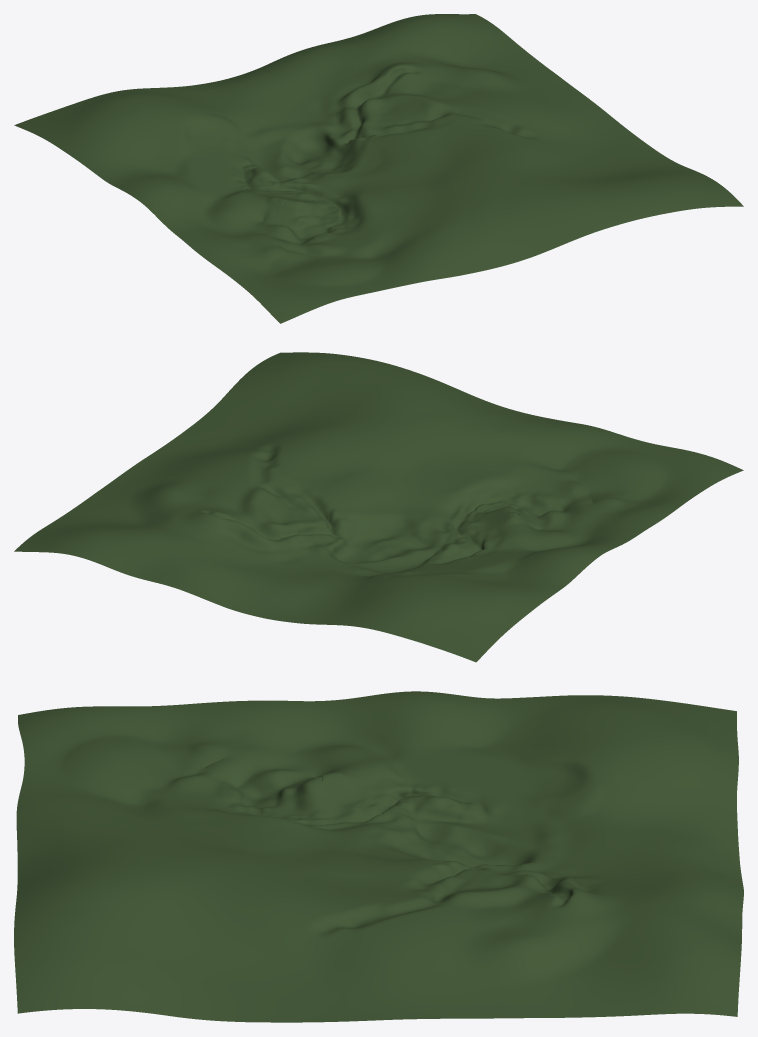
Rendered from terrain_04.glb.
3 views of the same model, one above another, from view 1: azimuth 30°, elevation 25°; view 2: azimuth 150°, elevation 25°; view 3: azimuth 270°, elevation 25° (orthographic). The views are drawn at different scales.
Visible parts, largest first — view 1: Plane.027; view 2: Plane.027; view 3: Plane.027.
Boxes of the visible parts, x1,y1,x2,y2 form: Plane.027: (14, 14, 743, 323); Plane.027: (14, 352, 743, 662); Plane.027: (14, 691, 743, 1022).
Size of the model in its own units: 203 by 16.42 by 205.
